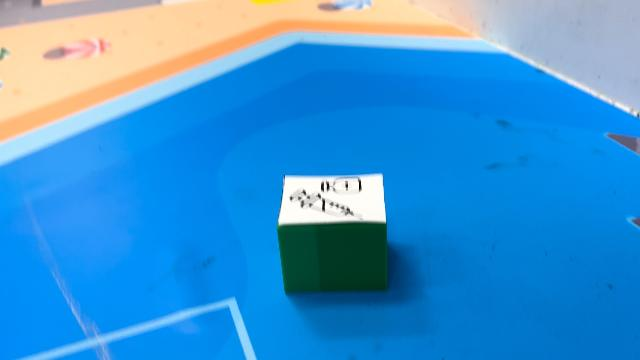syringe: (279, 174, 391, 294)
